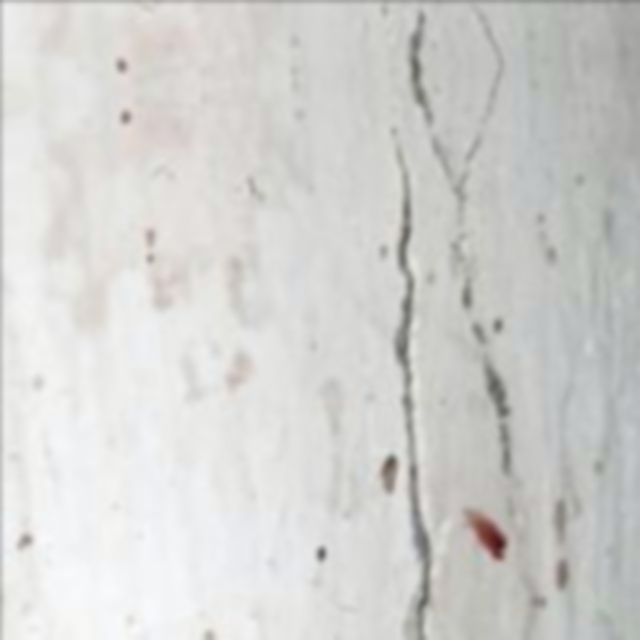SurfaceCrack: (380, 2, 522, 632)
